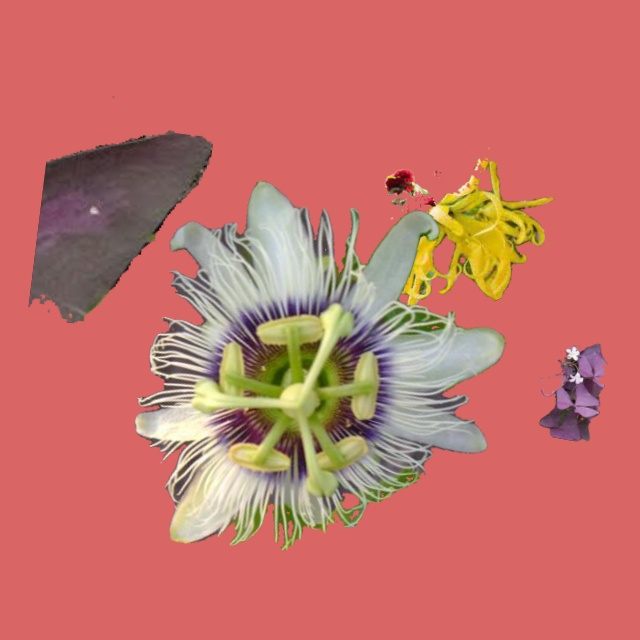butterfly flower: (29, 96, 212, 322), (540, 344, 607, 440)
passion flower: (135, 181, 505, 549)
rose: (385, 169, 439, 219)
ylang-ylang: (390, 158, 553, 317)
